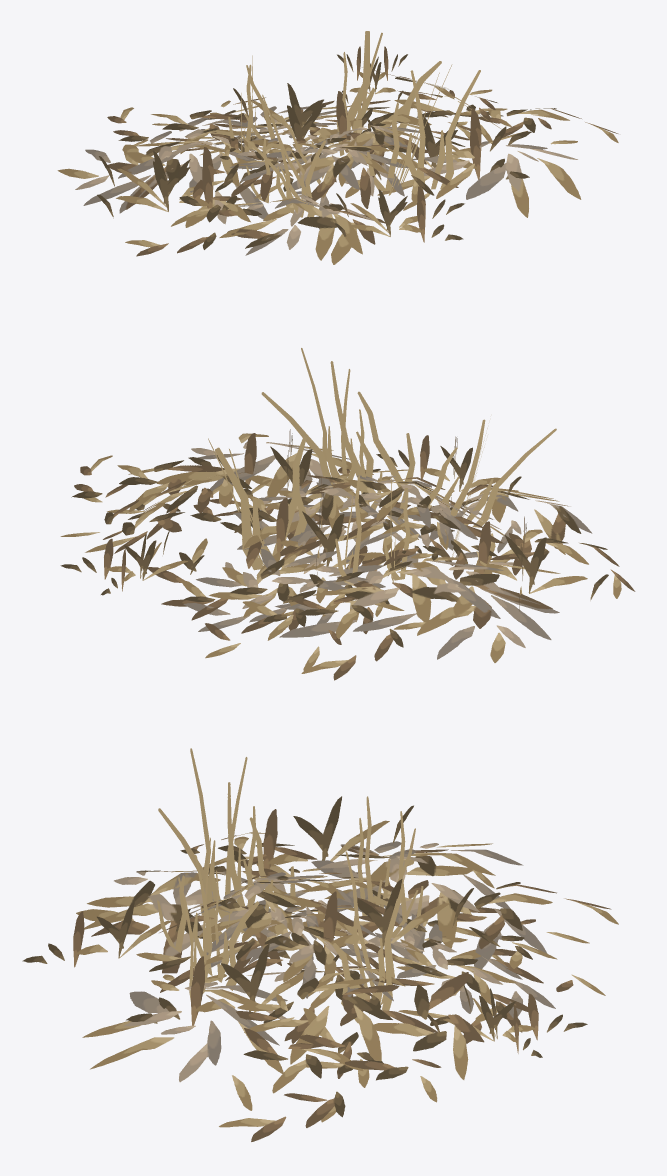
File: SM_Env_GroundCover_01.fbx
3 renders of one model, top to bottom at view 1: azimuth 30°, elevation 25°; view 2: azimuth 150°, elevation 25°; view 3: azimuth 270°, elevation 25°, orthographic. The views are drawn at different scales.
Parts seen in each view (by area): view 1: SM_Env_GroundCover_01_LOD0; view 2: SM_Env_GroundCover_01_LOD0; view 3: SM_Env_GroundCover_01_LOD0.
Boxes of the visible parts, left/top/right/bottom form: SM_Env_GroundCover_01_LOD0: left=57, top=31, right=618, bottom=264; SM_Env_GroundCover_01_LOD0: left=60, top=348, right=635, bottom=680; SM_Env_GroundCover_01_LOD0: left=22, top=748, right=618, bottom=1141.
Size of what is drawn, in the model's own units: 189 by 56.85 by 156.
